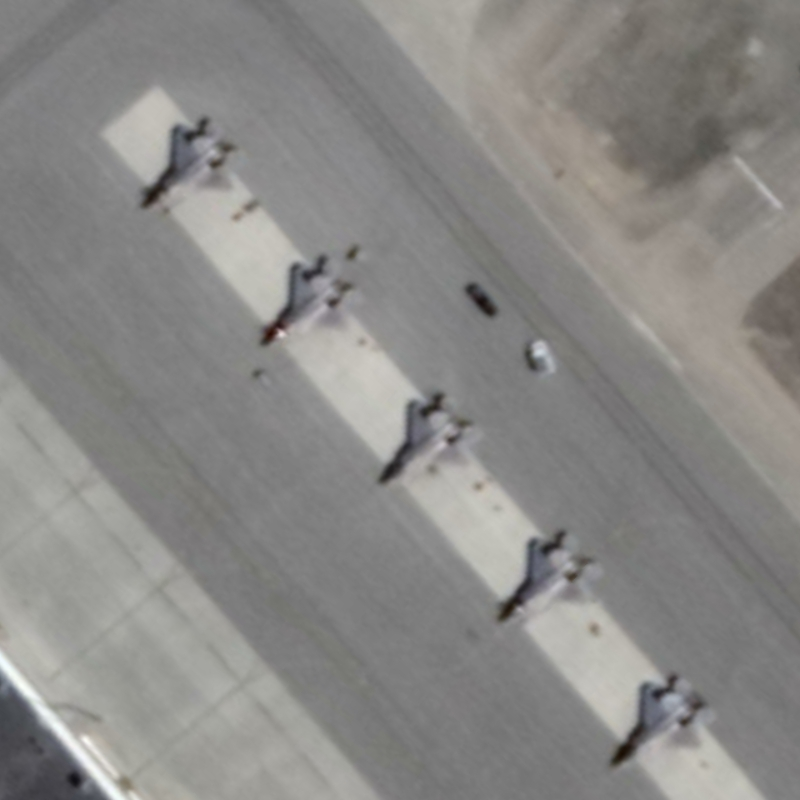A15: (488, 520, 610, 634), (599, 665, 720, 777), (255, 244, 370, 355), (372, 386, 487, 497), (135, 111, 248, 217)
